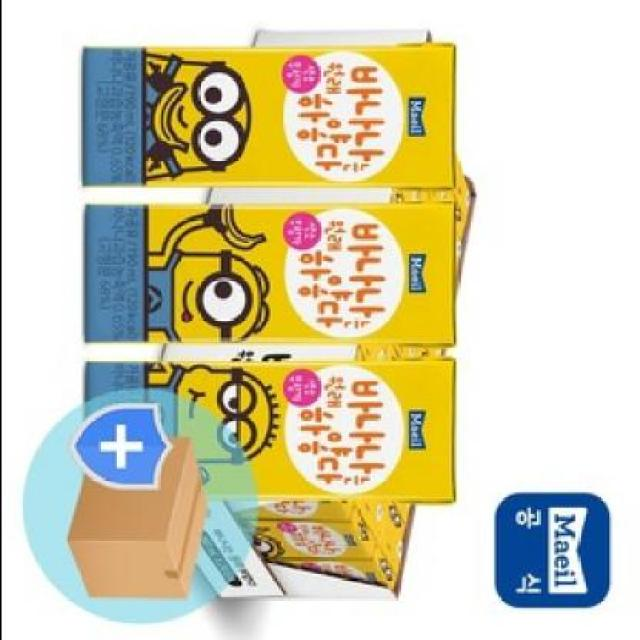tetra: (70, 13, 475, 202)
